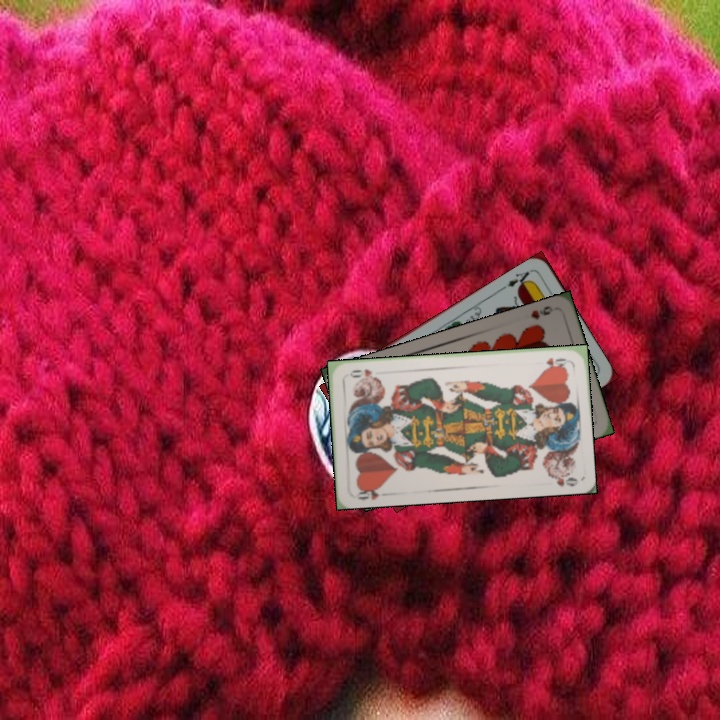EA: (503, 267, 534, 292)
H9: (526, 302, 556, 322)
HO: (351, 482, 386, 502), (541, 354, 568, 370)
